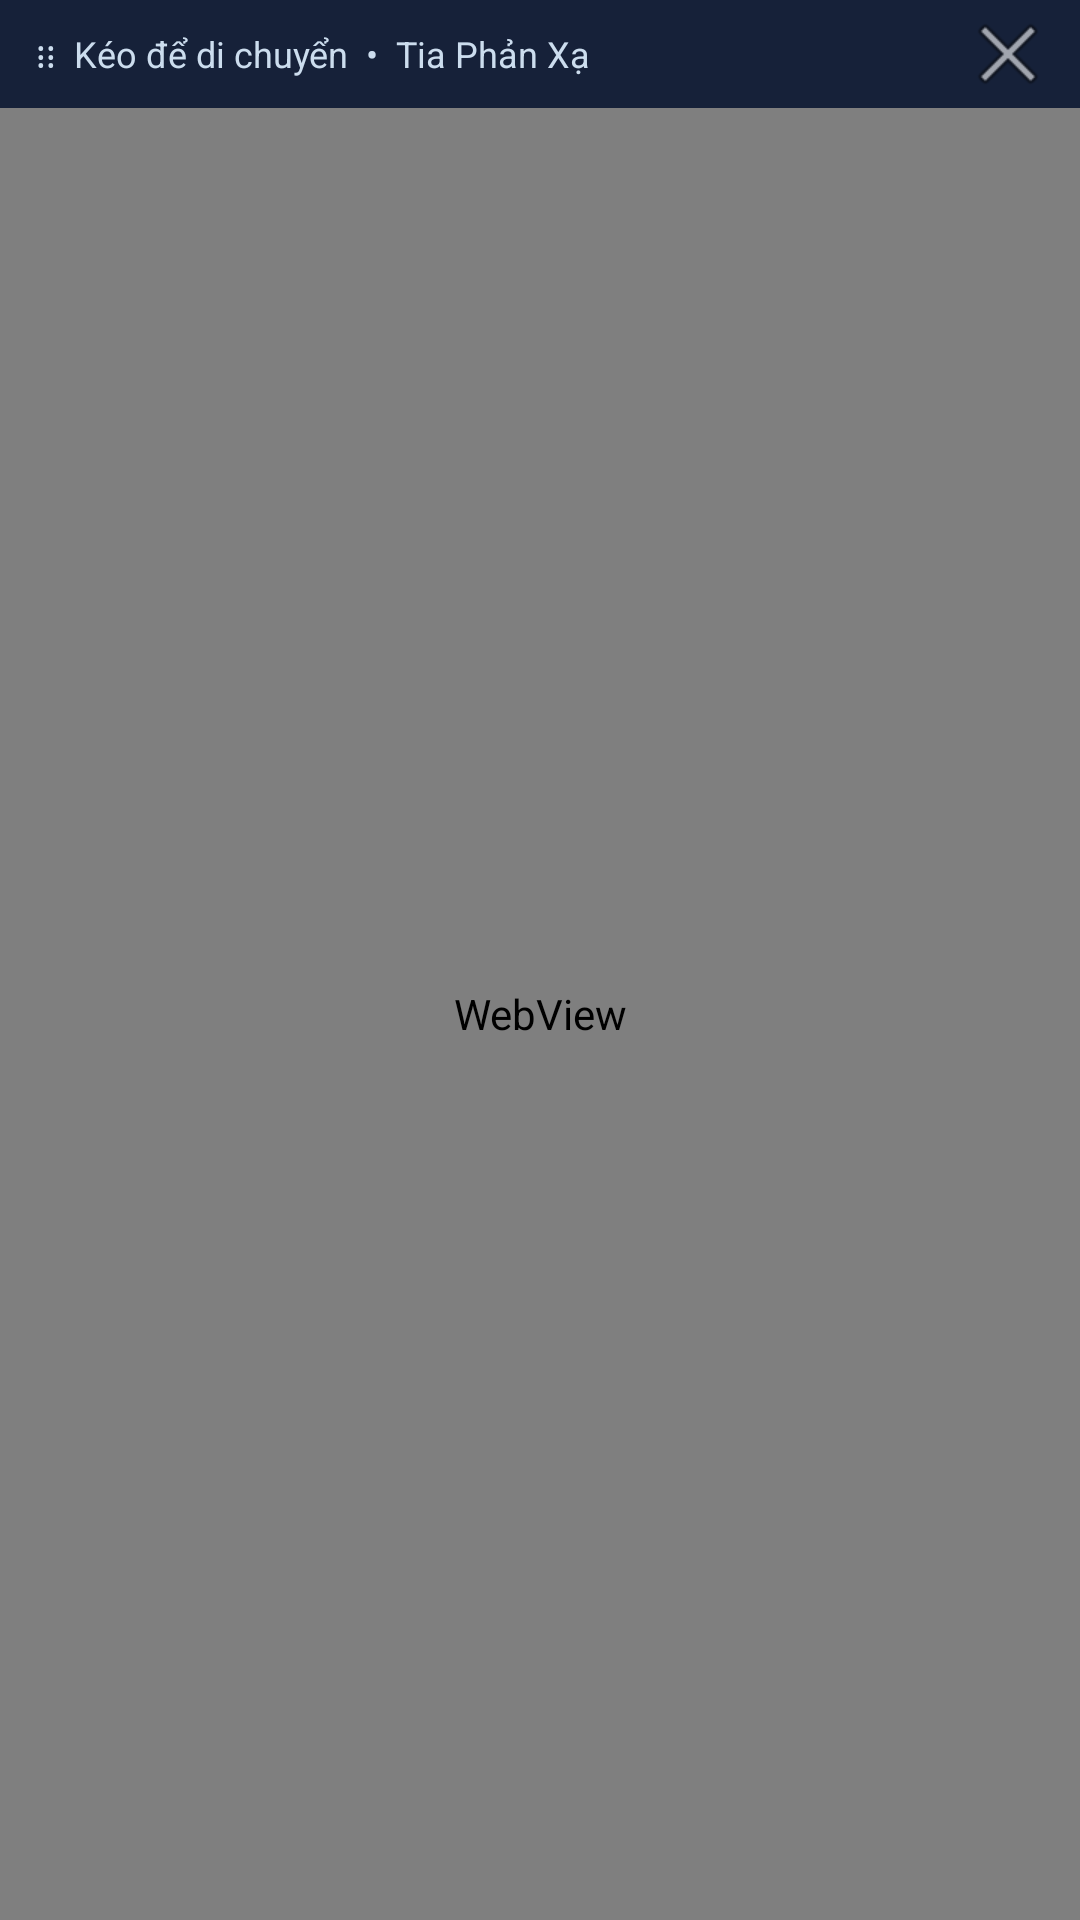

Where to tap for icons on this 1080x1920 app screen, as (x,y):
Đóng: (1008,54)
